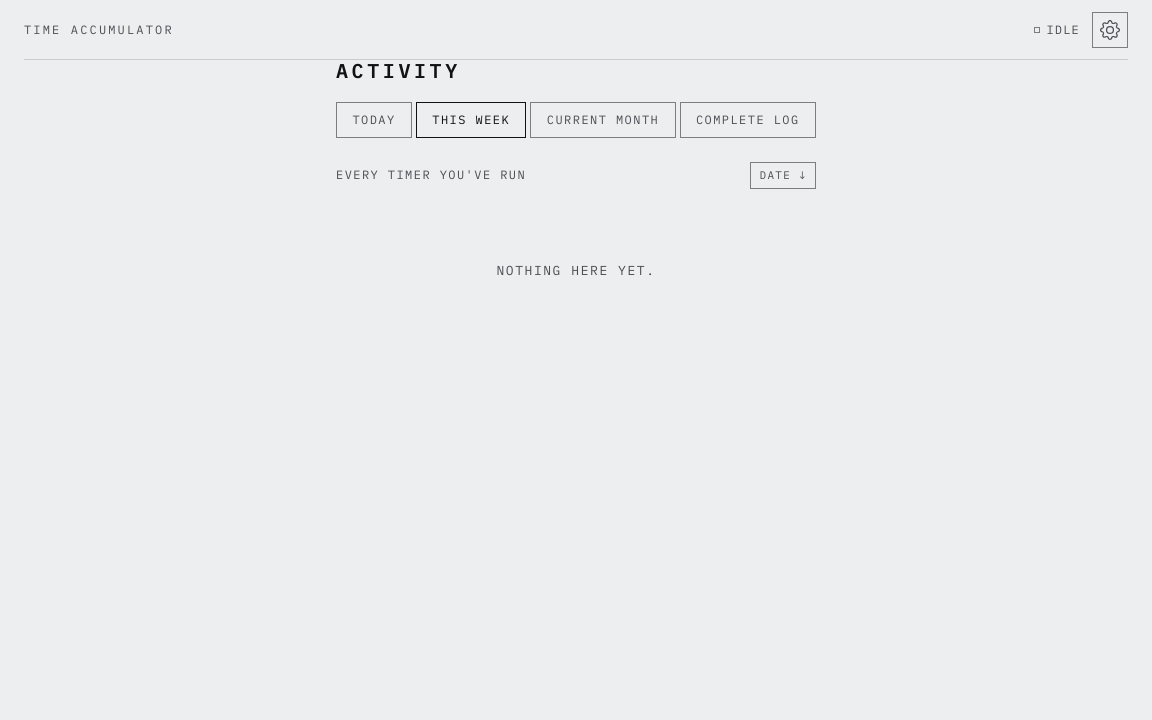
Test case: App onboarding gate › header: the app name returns Home
Click the button with class "app-header__pools" at coordinates (1110, 30), box [1092, 12, 1128, 48]
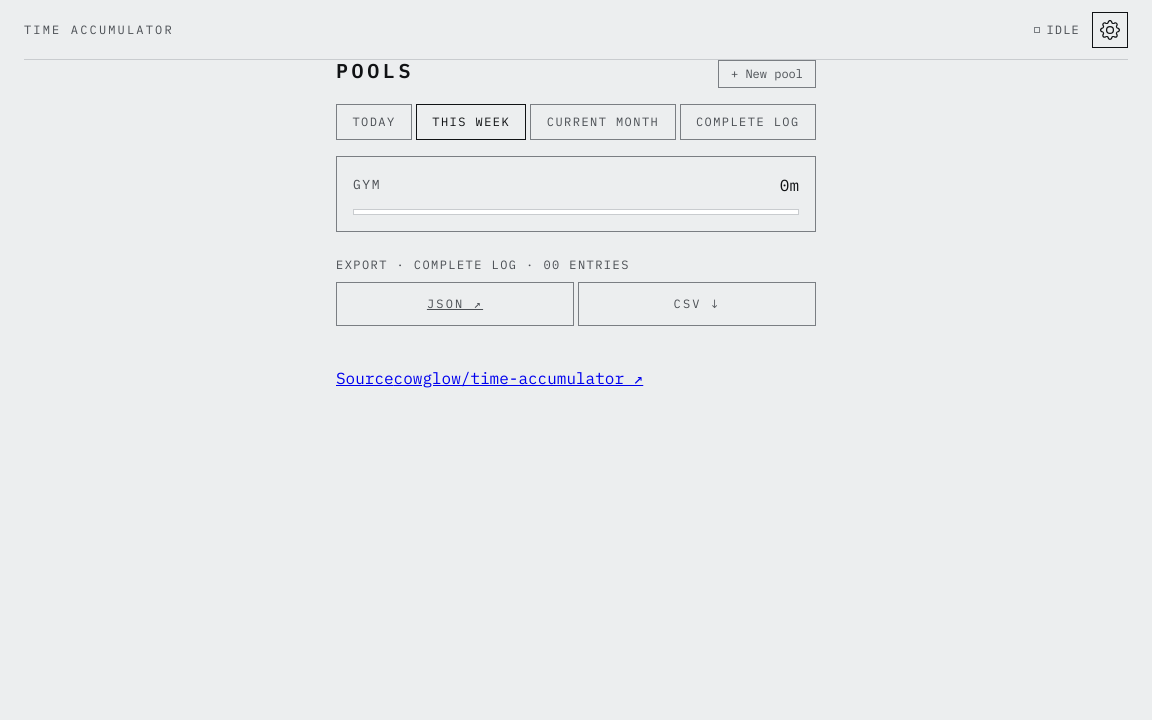
Expected: the element that starts with "Pools" is shown, [336, 56, 816, 390]
Click the button with class "app-header__brand" at coordinates (99, 30), box [24, 13, 174, 47]
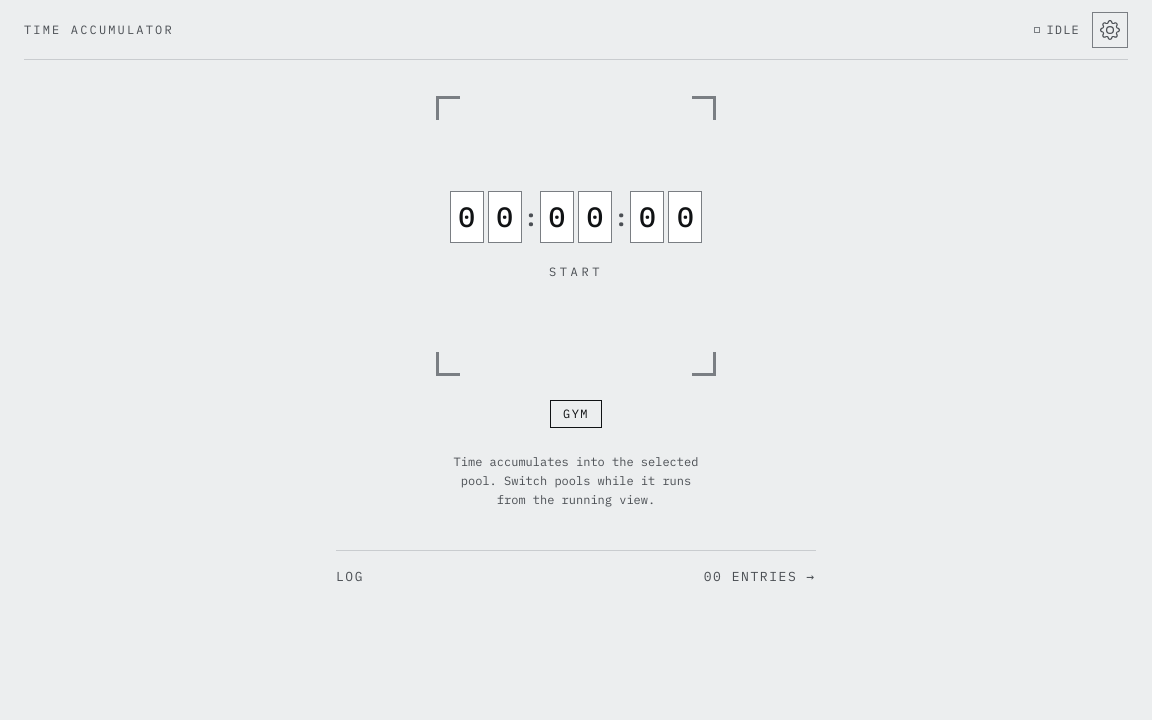
Expected: the button with class "dial" is shown, [336, 96, 816, 376]
